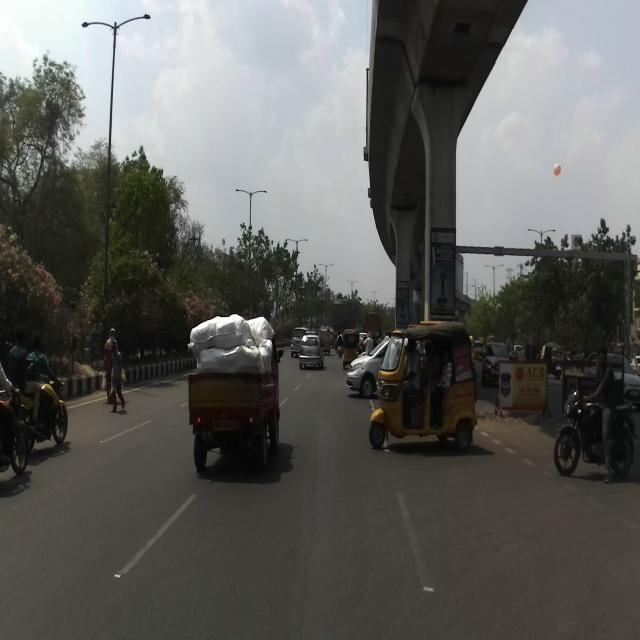autorickshaw: (187, 310, 284, 470), (368, 320, 478, 452)
motorcycle: (552, 389, 638, 476), (14, 367, 68, 455), (0, 382, 29, 474)
